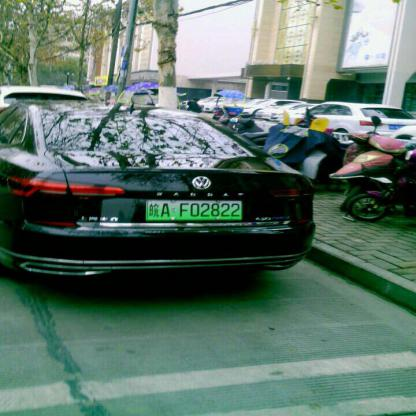lp: (146, 200, 242, 219)
